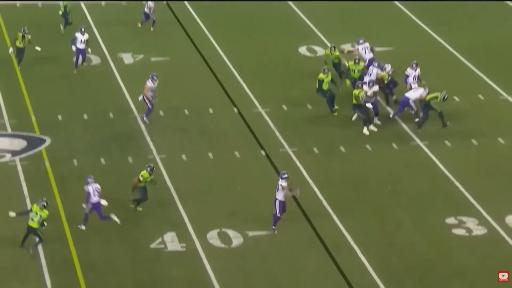Helmet: (366, 80, 377, 89), (278, 172, 290, 180), (150, 73, 159, 83), (146, 165, 155, 174), (39, 200, 47, 209), (86, 176, 95, 184), (356, 82, 364, 90), (354, 58, 362, 66), (372, 62, 381, 69), (330, 46, 338, 53), (411, 62, 418, 70), (442, 92, 448, 101), (322, 67, 329, 74), (22, 26, 28, 34), (80, 26, 86, 34), (359, 38, 365, 45)
Jersey: (28, 204, 48, 229), (356, 42, 374, 62), (85, 183, 101, 203), (364, 66, 382, 82), (348, 61, 364, 78), (406, 68, 420, 87), (364, 84, 379, 101), (405, 88, 426, 100), (317, 73, 331, 90), (276, 180, 287, 201), (146, 80, 157, 101), (138, 171, 153, 186), (75, 32, 88, 49), (16, 33, 30, 48), (326, 49, 340, 63), (353, 90, 364, 104), (425, 93, 441, 102), (144, 2, 154, 14), (60, 2, 69, 14), (384, 64, 393, 73)
Player: (79, 176, 120, 230), (9, 199, 48, 252), (272, 172, 298, 232), (353, 82, 377, 135), (390, 88, 428, 121), (418, 91, 449, 128), (131, 164, 155, 210), (316, 66, 338, 115), (139, 74, 158, 123), (377, 64, 398, 106), (72, 27, 90, 72), (363, 80, 381, 124), (324, 44, 343, 79), (14, 27, 30, 67), (355, 38, 375, 68), (404, 61, 424, 90), (346, 57, 364, 88), (363, 62, 382, 86), (139, 2, 155, 30), (59, 2, 72, 33)
